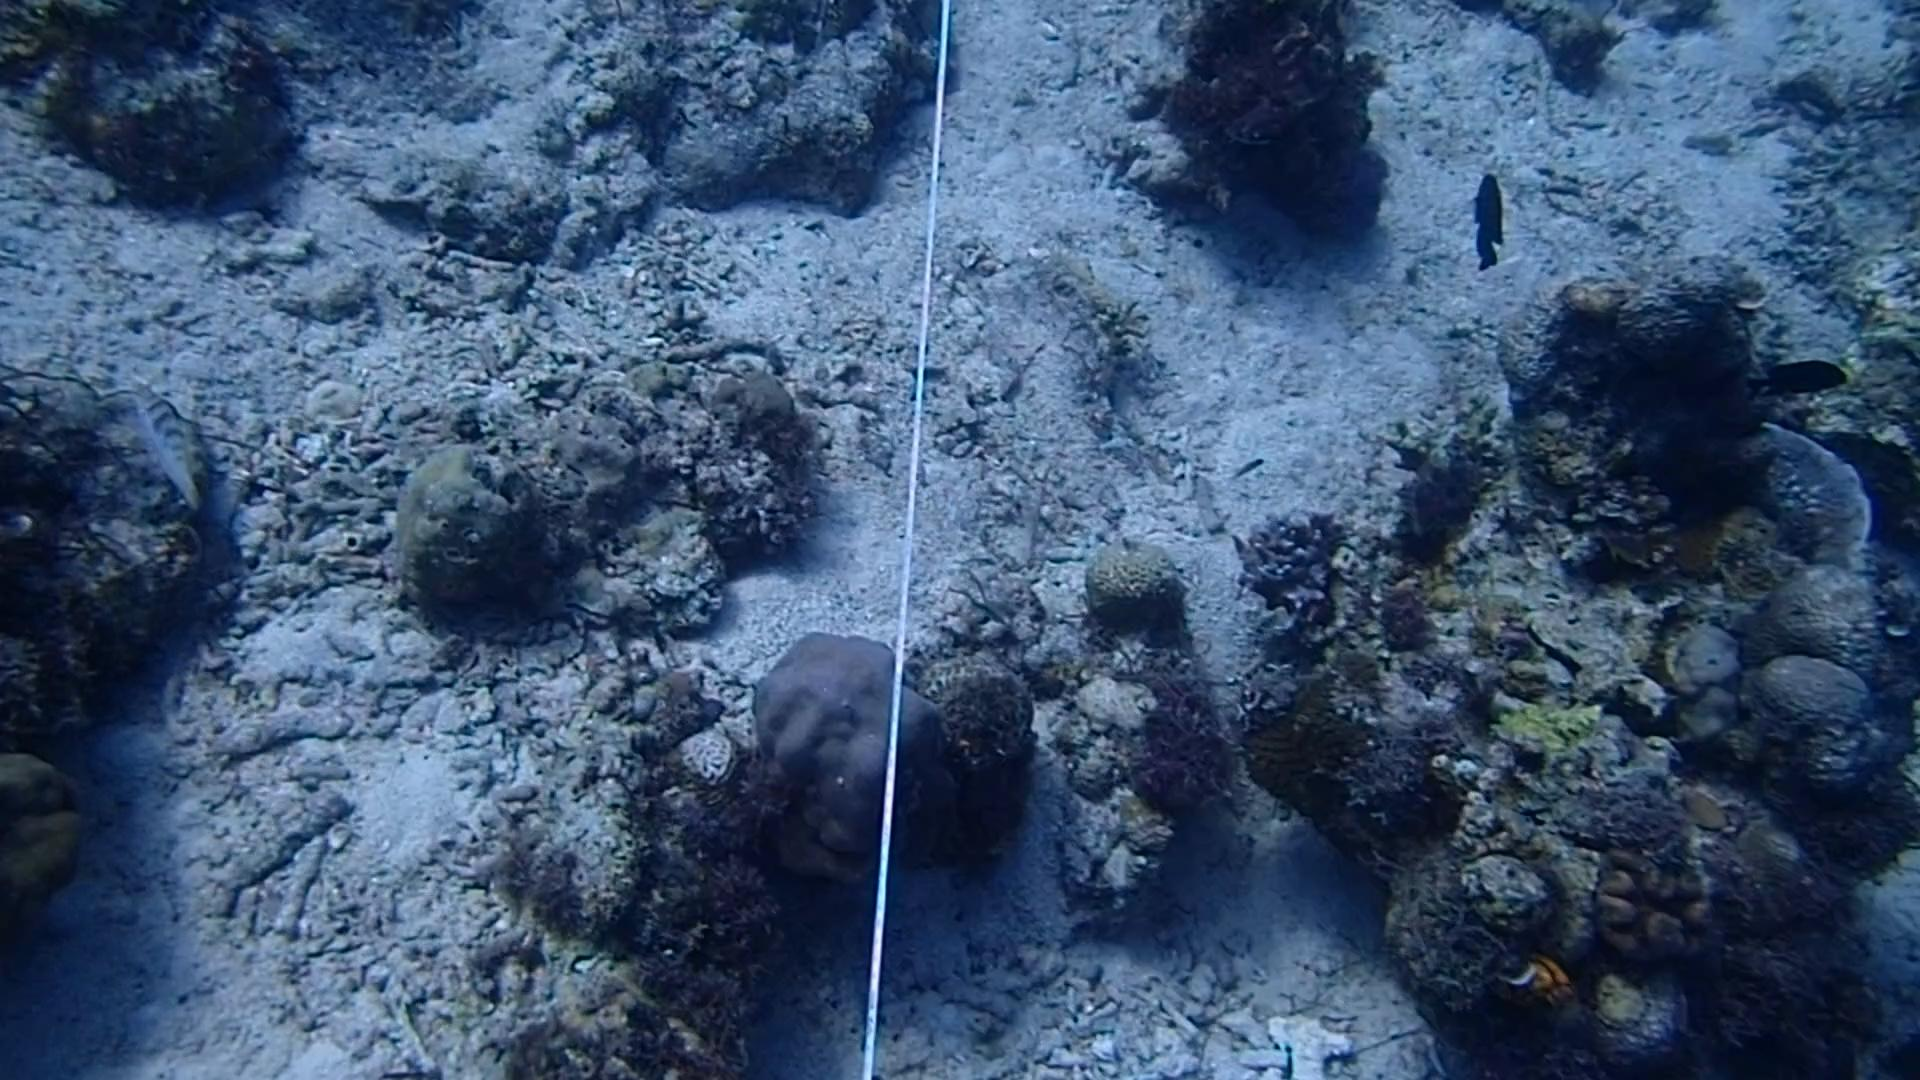Dark Fish: (1453, 157, 1519, 280), (1741, 343, 1854, 409)
Light Fish w Back Stripes: (105, 363, 215, 512)
